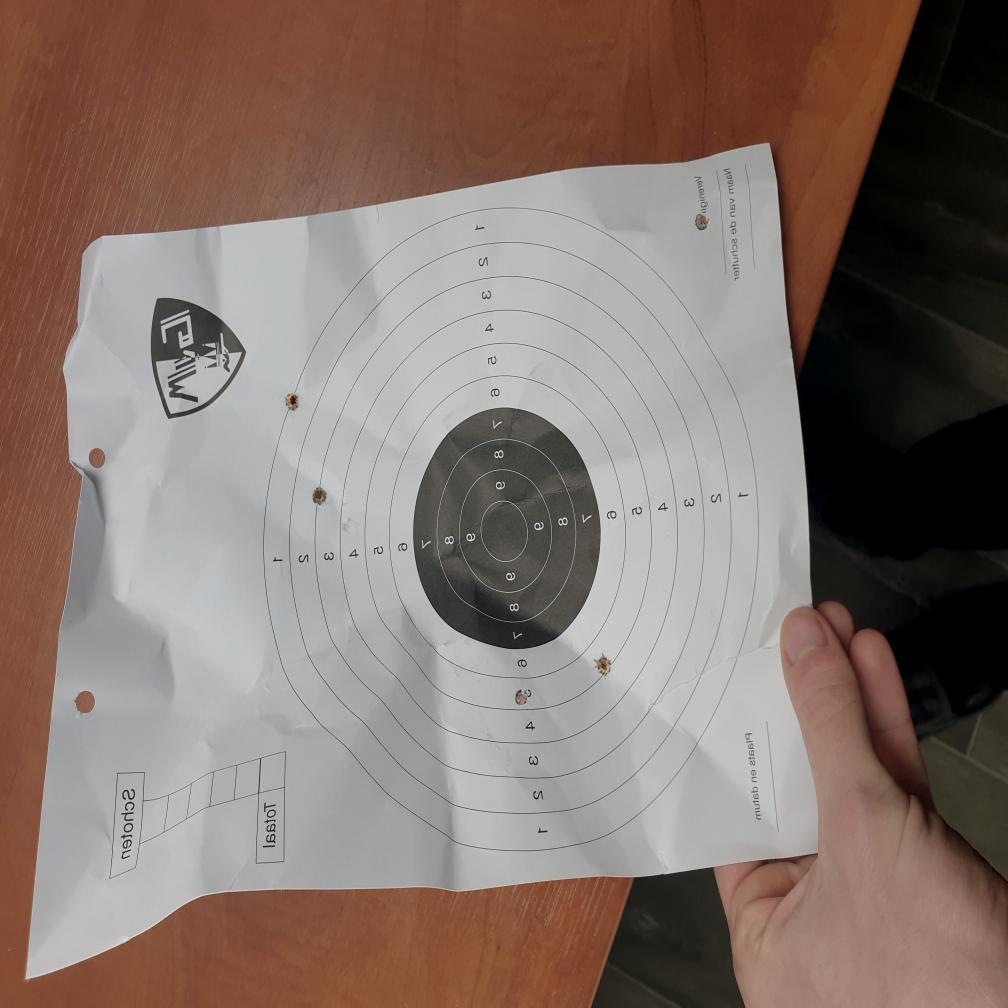0: (694, 212, 709, 233)
1: (284, 392, 300, 412)
3: (311, 484, 328, 509)
5: (593, 654, 612, 679), (512, 687, 529, 708)
Target: (262, 208, 759, 856)
black_contour: (412, 408, 600, 649)
